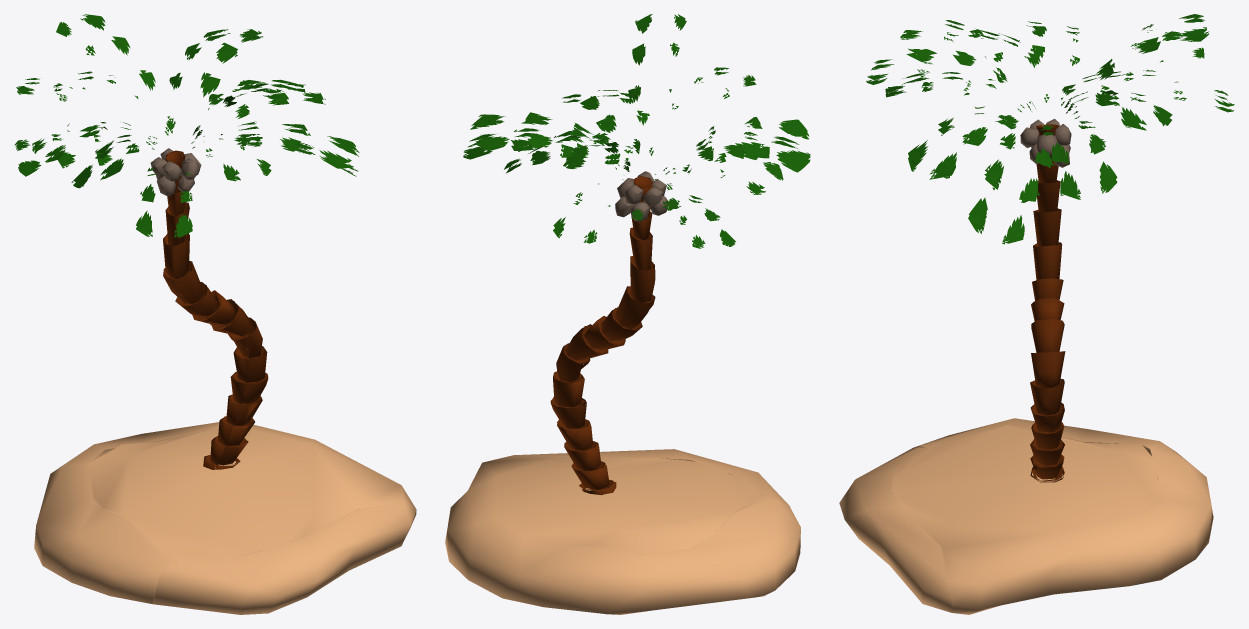
Rendered from palm_tree.glb.
The picture shows the model from 3 angles, left to right: view 1: azimuth 30°, elevation 25°; view 2: azimuth 150°, elevation 25°; view 3: azimuth 270°, elevation 25°; orthographic projection. The views are drawn at different scales.
Visible parts, largest first — view 1: PalmTree; view 2: PalmTree; view 3: PalmTree.
Part boxes in pixels (box(x1,y1,x2,y2)): PalmTree: box(14, 14, 416, 614); PalmTree: box(445, 14, 810, 614); PalmTree: box(839, 14, 1234, 614).
Bounding box in the file's own units: 4.06 × 5.85 × 4.1.
